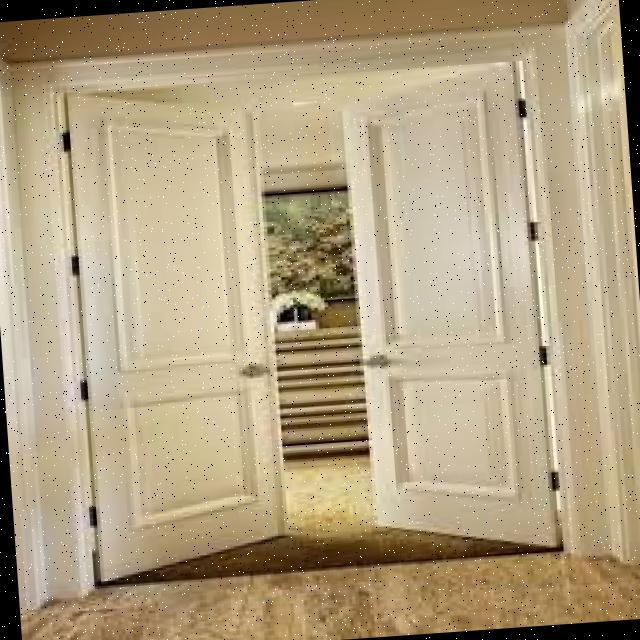Door: (52, 66, 294, 596), (333, 49, 559, 566)
